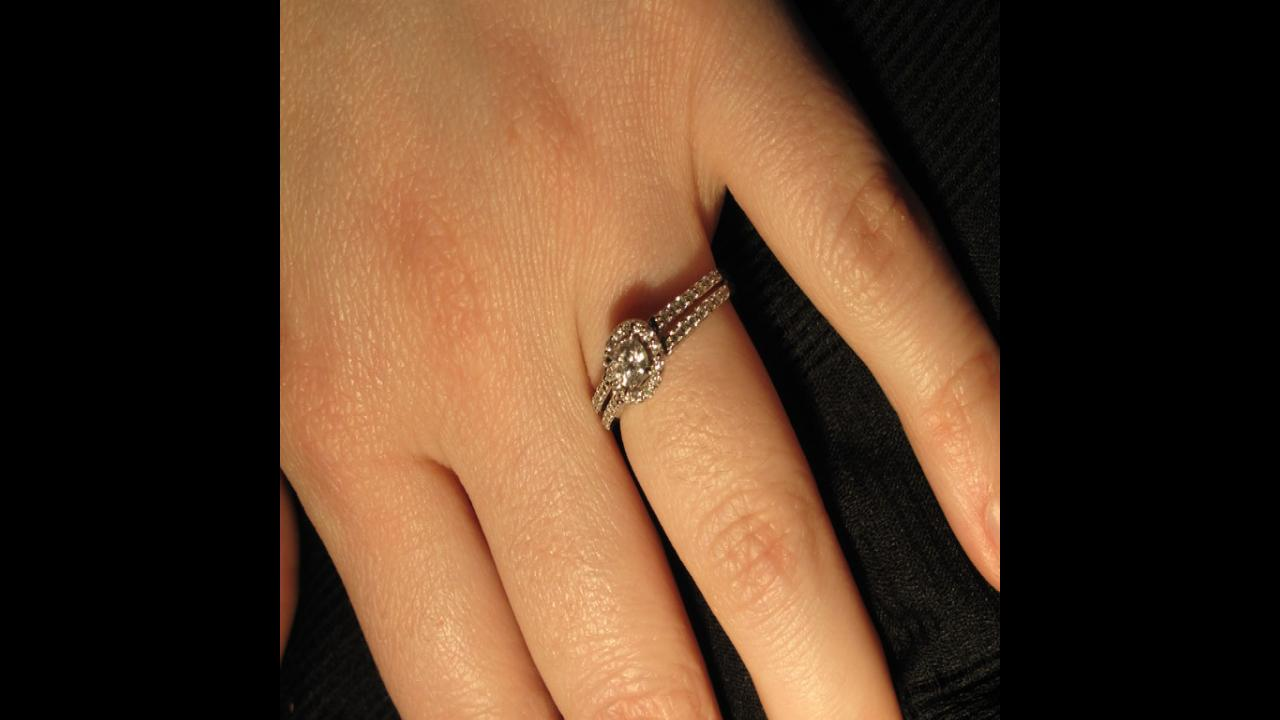ring: (587, 266, 733, 434)
